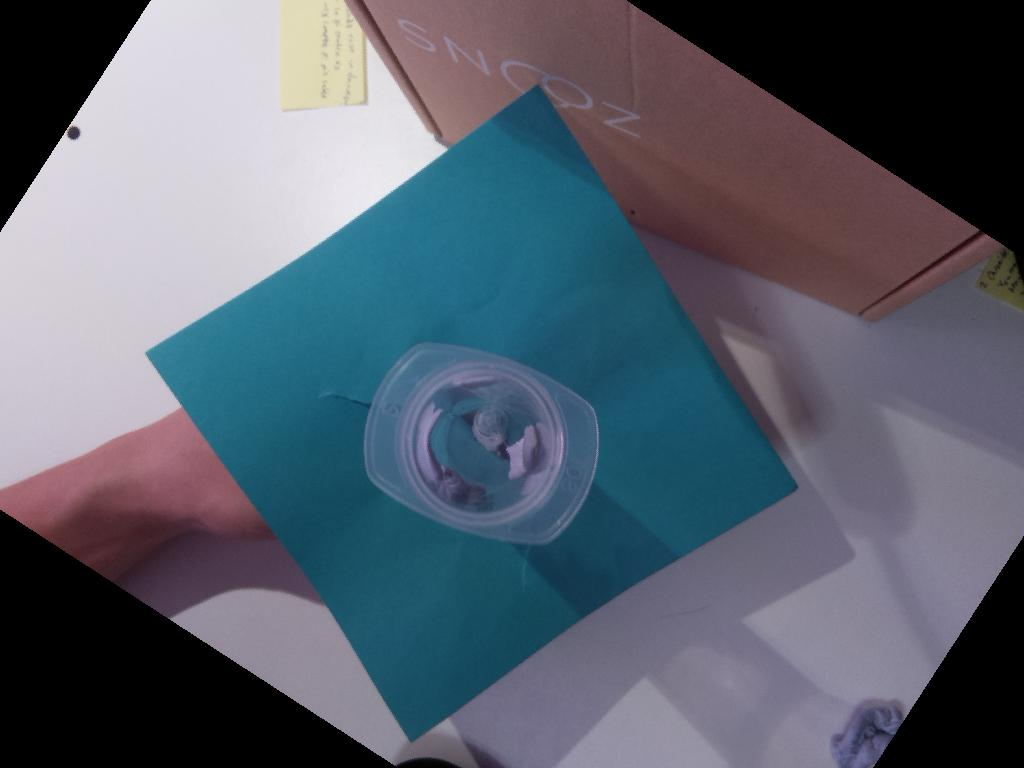dirty: (361, 340, 601, 546)
